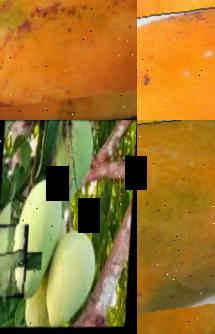PartiallyRipe: (137, 120, 215, 334)
Ripe: (0, 0, 137, 120), (137, 0, 215, 120)
Unripe: (0, 221, 27, 296)
